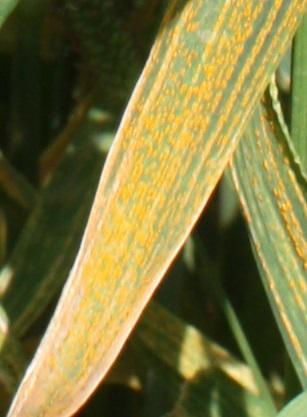Wheat: (65, 68, 265, 347), (242, 148, 307, 341)
